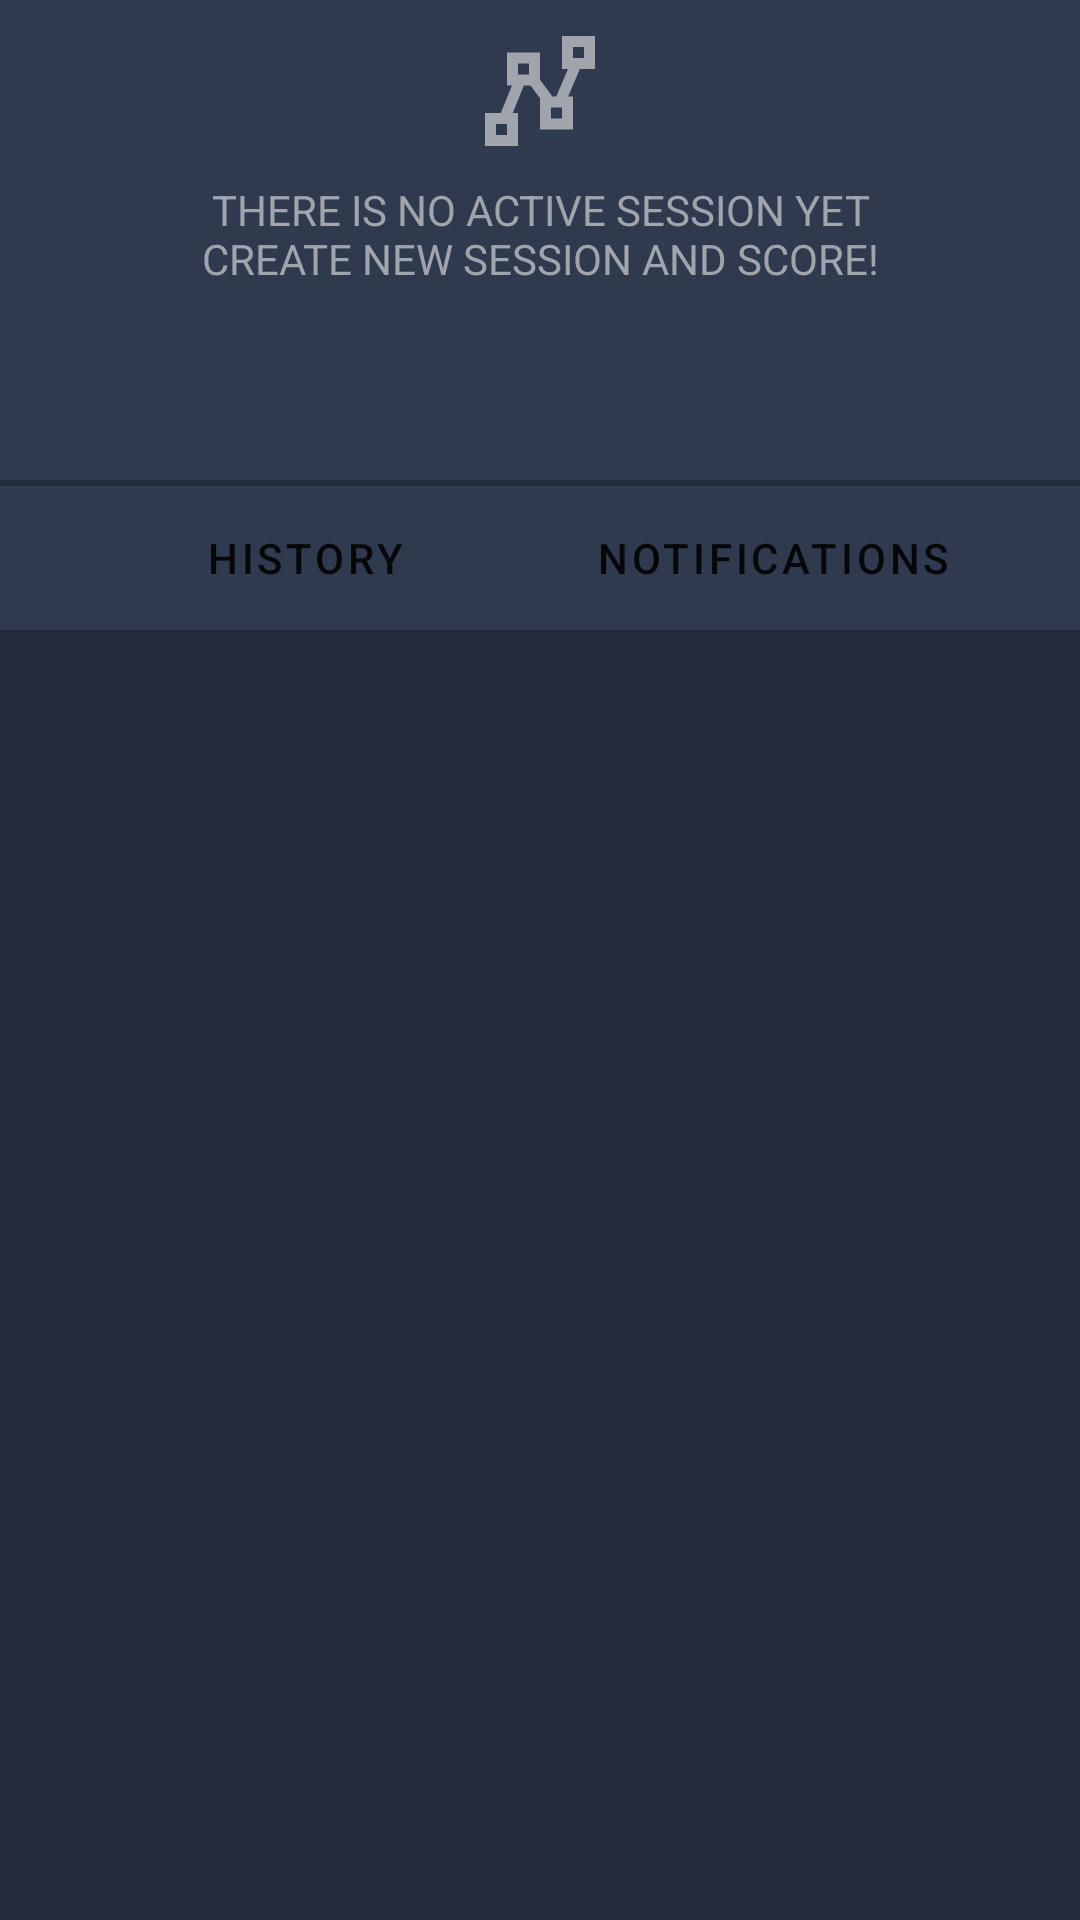

Where icons sit on this 1080 × 1920 app screen, as bbox(x1, y1, x2, y2):
routing: bbox(485, 36, 595, 146)
